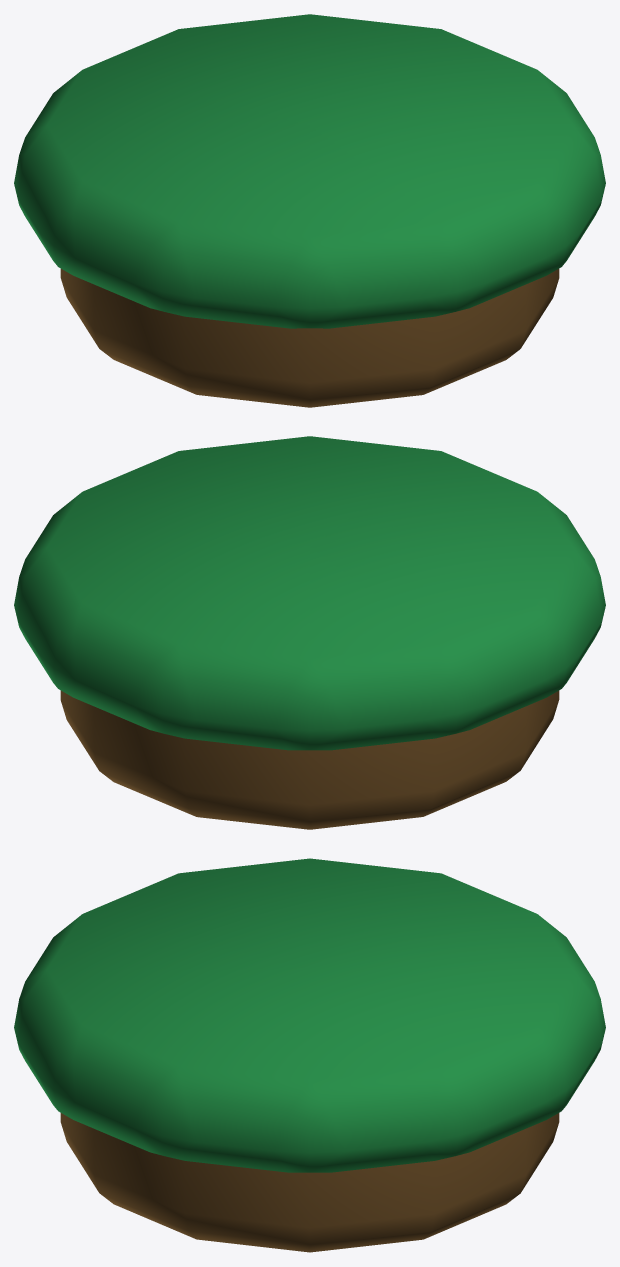
File: Plateforme_Ronde_2.fbx
The picture shows the model from 3 angles, top to bottom: view 1: azimuth 30°, elevation 25°; view 2: azimuth 150°, elevation 25°; view 3: azimuth 270°, elevation 25°; orthographic projection.
Visible parts, largest first — view 1: Cylinder.004; view 2: Cylinder.004; view 3: Cylinder.004.
Boxes of the visible parts, left/top/right/bottom form: Cylinder.004: left=14, top=14, right=605, bottom=407; Cylinder.004: left=14, top=436, right=605, bottom=829; Cylinder.004: left=14, top=858, right=605, bottom=1252.
Size of the model in its own units: 524 by 188 by 524.
